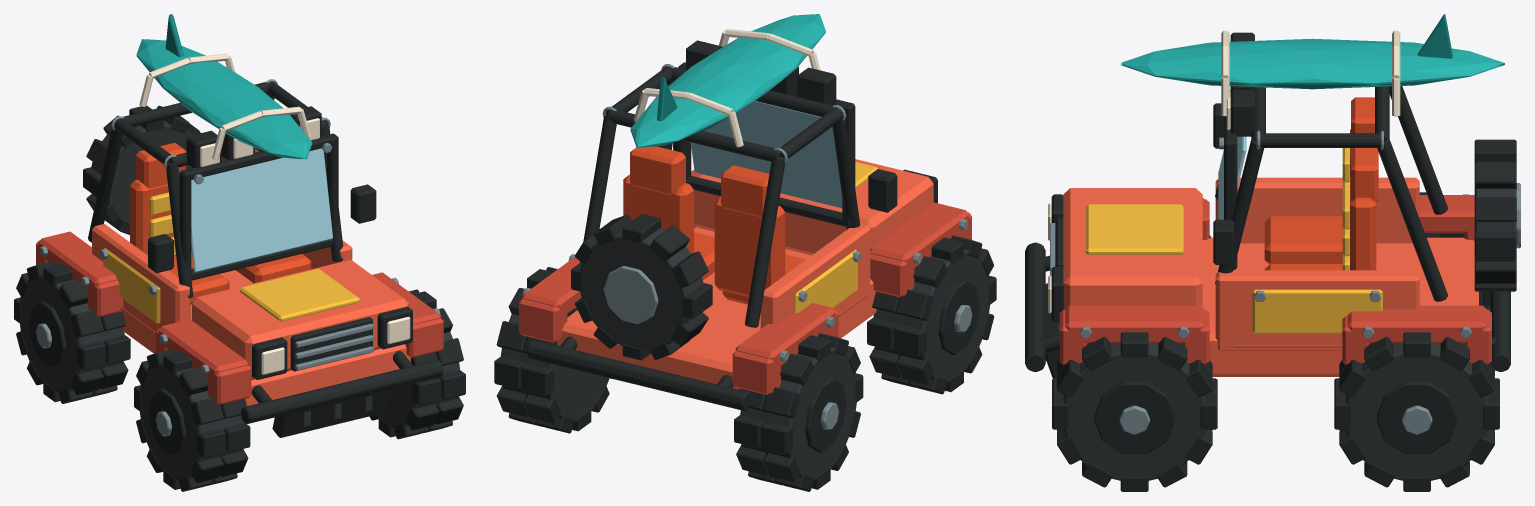
Rendered from offroader.glb.
The picture shows the model from 3 angles, left to right: view 1: azimuth 30°, elevation 25°; view 2: azimuth 150°, elevation 25°; view 3: azimuth 270°, elevation 25°; orthographic projection. The views are drawn at different scales.
Parts seen in each view (by area): view 1: Pale blue windshield.003, Teal surfboard.003, Bevelled nose.003, Coral chassis.003, Knobby tire core.012, Knobby tire core.013, Hood yellow insert.003, Separate tubular bumper.006, Side door panel.006, Separate fender flare.012, Front skid plate.003, Rear spare tire.003 (+54 smaller); view 2: Teal surfboard.003, Pale blue windshield.003, Coral chassis.003, Rear spare tire.003, Bevelled nose.003, Knobby tire core.012, Knobby tire core.013, Orange seat back.006, Separate tubular bumper.007, Side door panel.006, Separate fender flare.012, Knobby tire core.015 (+51 smaller); view 3: Teal surfboard.003, Bevelled nose.003, Coral chassis.003, Knobby tire core.015, Knobby tire core.014, Side door panel.007, Side door panel.006, Hood yellow insert.003, Yellow door inset.007, Separate fender flare.014, Wheel hub.015, Wheel hub.014 (+50 smaller).
Boxes of the visible parts, x1=… form: Pale blue windshield.003: x1=191, y1=148, x2=332, y2=272; Teal surfboard.003: x1=136, y1=39, x2=312, y2=159; Bevelled nose.003: x1=192, y1=259, x2=409, y2=380; Coral chassis.003: x1=122, y1=270, x2=410, y2=406; Knobby tire core.012: x1=139, y1=361, x2=244, y2=481; Knobby tire core.013: x1=20, y1=273, x2=124, y2=393; Hood yellow insert.003: x1=240, y1=268, x2=359, y2=321; Separate tubular bumper.006: x1=241, y1=360, x2=443, y2=423; Side door panel.006: x1=92, y1=224, x2=190, y2=334; Separate fender flare.012: x1=158, y1=319, x2=248, y2=378; Front skid plate.003: x1=272, y1=389, x2=391, y2=437; Rear spare tire.003: x1=91, y1=120, x2=192, y2=222; Teal surfboard.003: x1=630, y1=14, x2=825, y2=147; Pale blue windshield.003: x1=690, y1=101, x2=842, y2=208; Coral chassis.003: x1=557, y1=227, x2=876, y2=389; Rear spare tire.003: x1=580, y1=228, x2=703, y2=351; Bevelled nose.003: x1=694, y1=159, x2=933, y2=255; Knobby tire core.012: x1=873, y1=249, x2=989, y2=382; Knobby tire core.013: x1=740, y1=347, x2=856, y2=480; Orange seat back.006: x1=714, y1=197, x2=785, y2=296; Separate tubular bumper.007: x1=526, y1=340, x2=751, y2=410; Side door panel.006: x1=760, y1=224, x2=870, y2=328; Separate fender flare.012: x1=870, y1=202, x2=968, y2=267; Knobby tire core.015: x1=501, y1=307, x2=609, y2=422; Teal surfboard.003: x1=1121, y1=38, x2=1504, y2=89; Bevelled nose.003: x1=1063, y1=188, x2=1202, y2=309; Coral chassis.003: x1=1202, y1=237, x2=1478, y2=376; Knobby tire core.015: x1=1346, y1=342, x2=1488, y2=480; Knobby tire core.014: x1=1063, y1=342, x2=1205, y2=480; Side door panel.007: x1=1215, y1=270, x2=1419, y2=350; Side door panel.006: x1=1215, y1=177, x2=1419, y2=243; Hood yellow insert.003: x1=1086, y1=204, x2=1183, y2=254; Yellow door inset.007: x1=1252, y1=289, x2=1382, y2=333; Separate fender flare.014: x1=1065, y1=305, x2=1204, y2=343; Wheel hub.015: x1=1376, y1=382, x2=1457, y2=453; Wheel hub.014: x1=1094, y1=382, x2=1175, y2=453.
Bounding box in the file's own units: 2.15 × 2.56 × 2.84.
